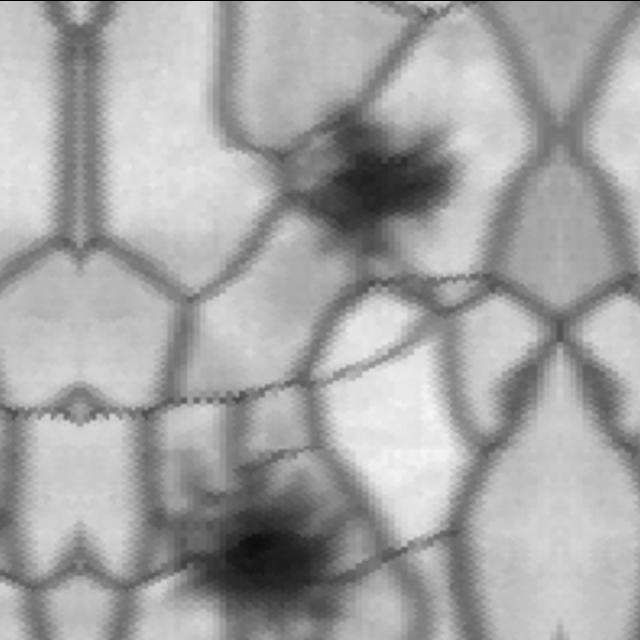good_void: (274, 31, 478, 280), (144, 401, 358, 635), (483, 342, 556, 444), (563, 342, 636, 444)
